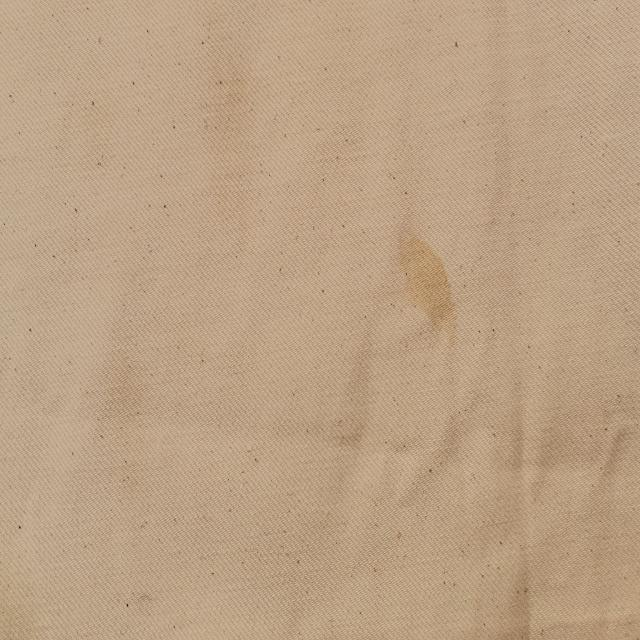taaaches: (385, 193, 461, 356)
